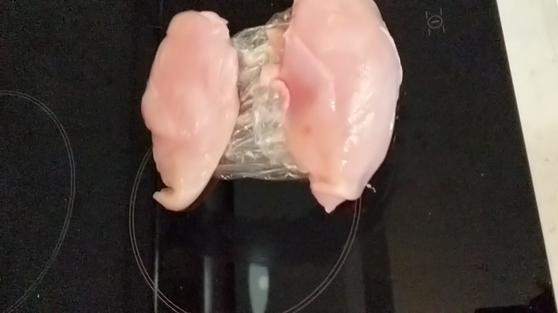chicken_fillet: (281, 3, 403, 215), (141, 6, 238, 210)
